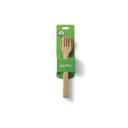fork: (52, 32, 78, 108)
